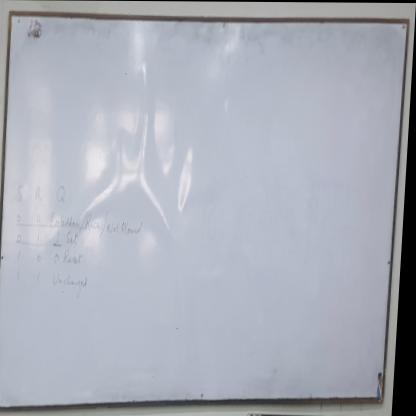Handwritten text: (16, 180, 76, 210), (53, 269, 92, 302), (109, 216, 148, 244), (51, 210, 84, 235), (87, 211, 106, 241), (64, 247, 87, 269), (67, 227, 82, 249)
Whiteboard: (0, 13, 408, 416)
